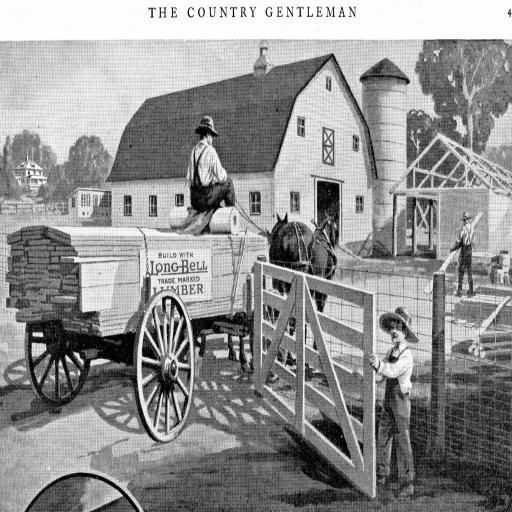horse: (223, 212, 289, 378), (269, 210, 313, 364), (304, 203, 340, 348)
